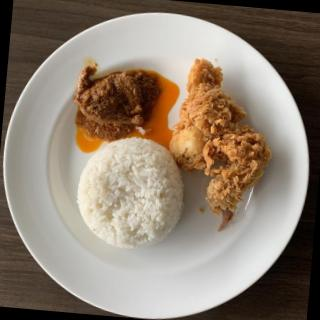Nasi: (76, 135, 193, 254)
